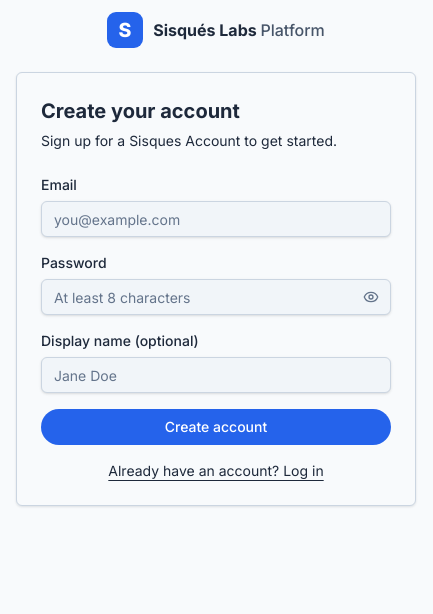
Test case: RegisterScreen › shows an email-already-registered error on a 409 response and does not redirect
Type "jane@example.com" into the field labelled "Email" at coordinates (216, 219), box [41,201,391,237]
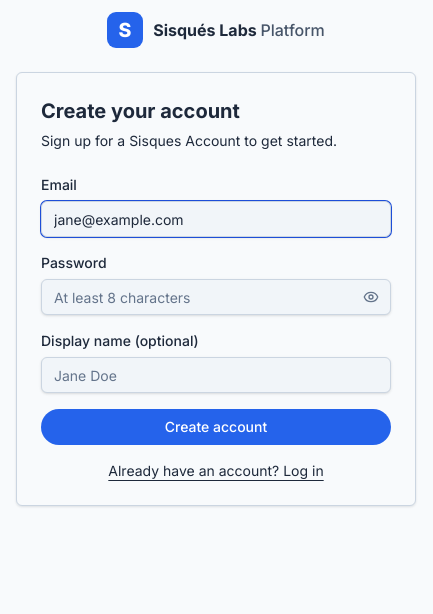
Type "Sup3rStrongPassw0rd!" into the password field labelled "Password" at coordinates (216, 297), box [41,279,391,315]
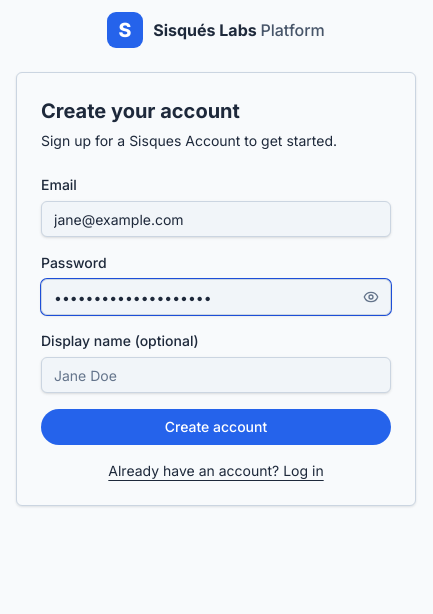
Click the button "Create account" at coordinates (216, 427), box [41,409,391,445]
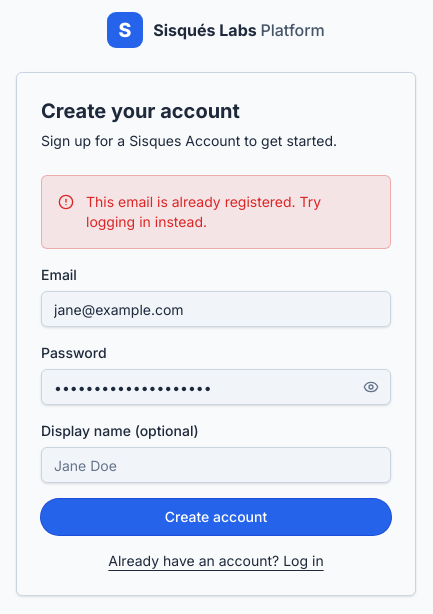
Expected: the message reads "This email is already registered. Try logging in instead.", [86,193,321,230]
